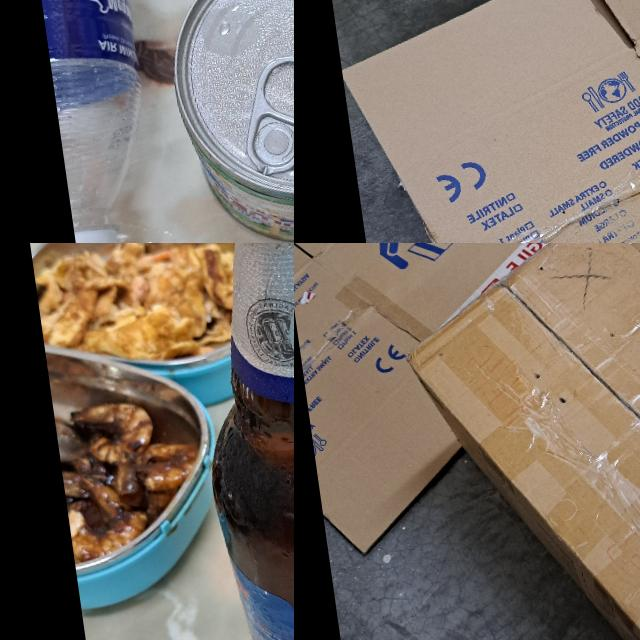aba de lata: (235, 47, 294, 176)
garrafa de vidro: (168, 243, 294, 640)
garrafa plástica: (13, 0, 160, 236)
lata: (160, 0, 294, 243)
papelão: (294, 243, 640, 560), (389, 243, 640, 640), (323, 0, 640, 243)
